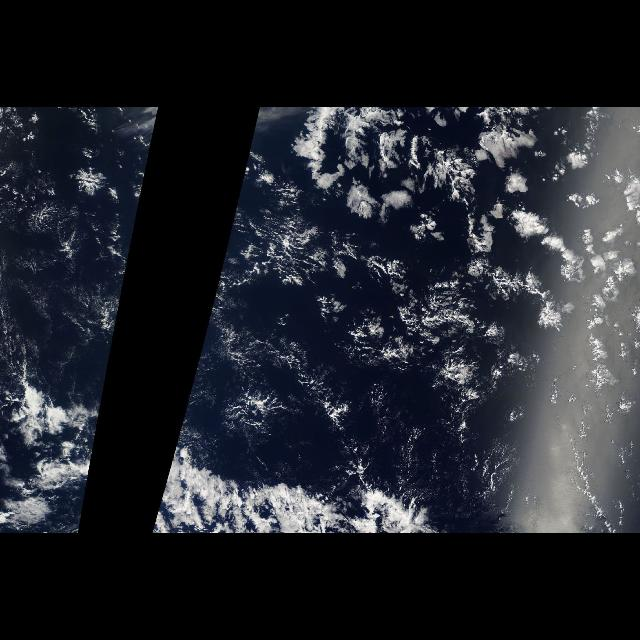Flower: (310, 122, 634, 414)
